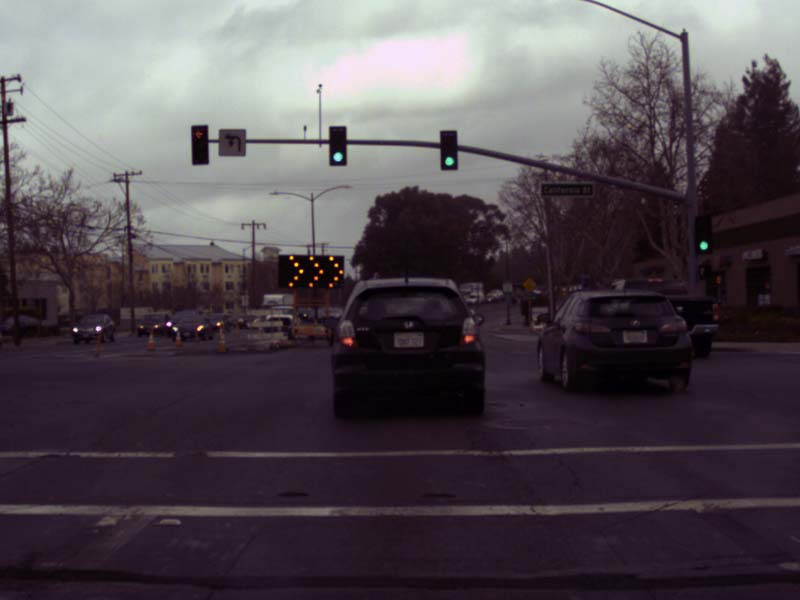Green: (329, 126, 345, 165), (440, 131, 456, 169), (695, 216, 710, 253)
Red: (192, 126, 208, 164)
